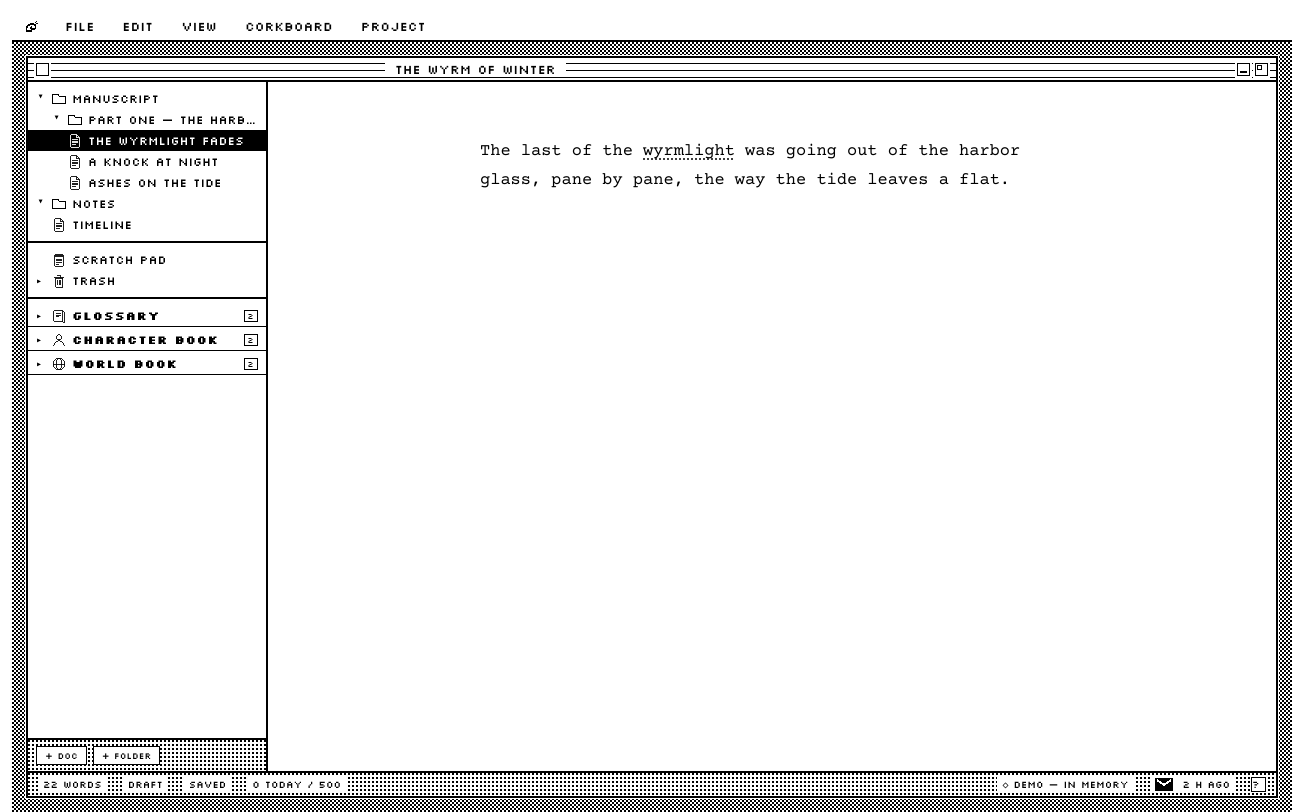
the title-bar close-box › closes the open project and returns to Welcome
Click the button named "Close Project": (42, 69) x1=36 y1=62 x2=49 y2=76
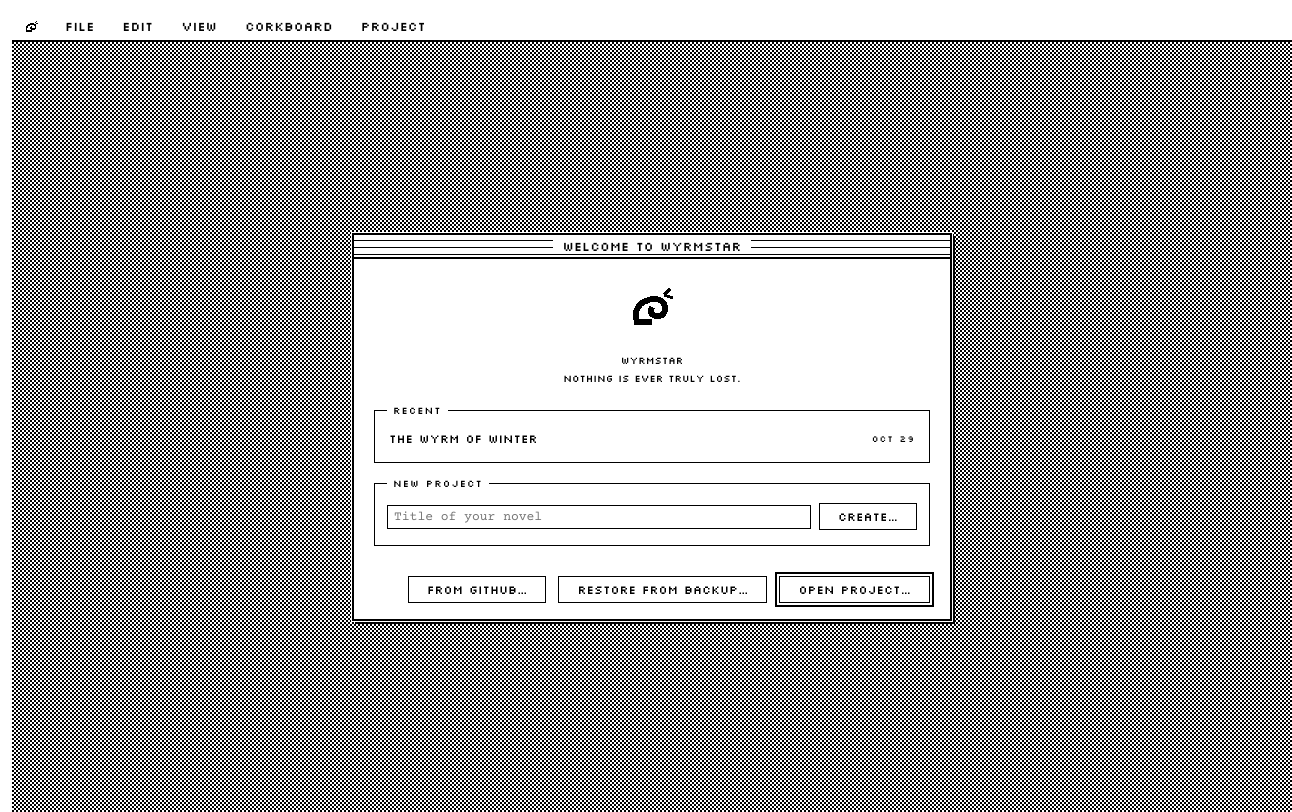
Check: the text "Welcome to WyrmStar" is shown, box x1=553 y1=238 x2=751 y2=254
